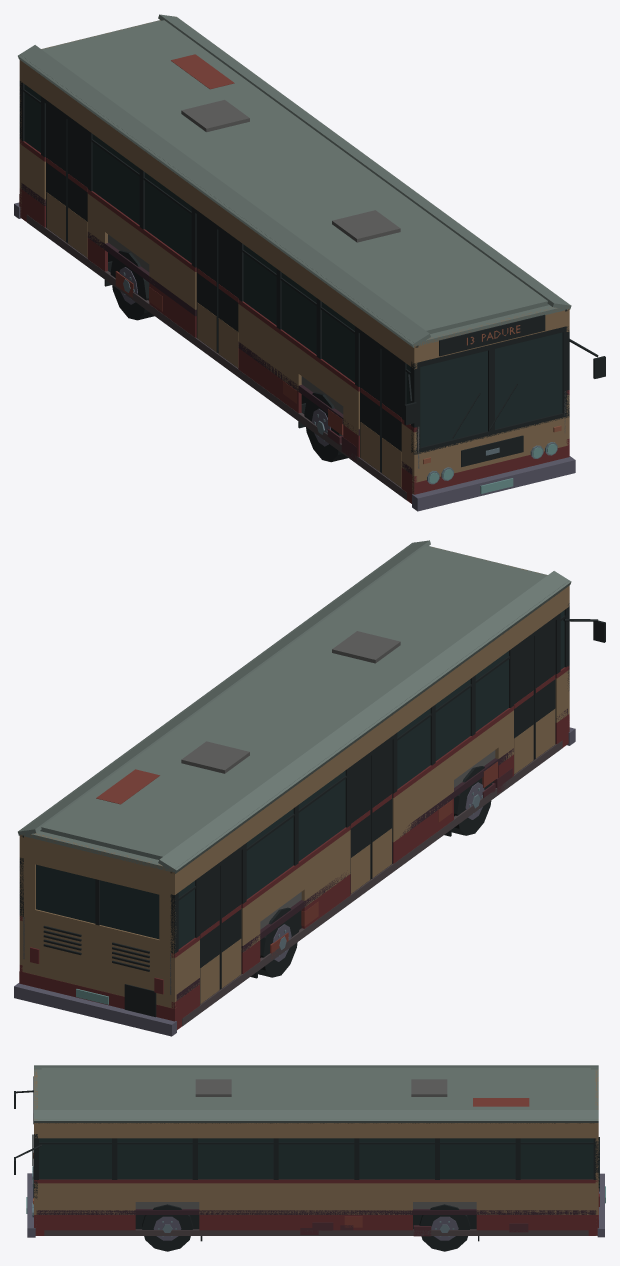
File: autobuz.glb
3 views of the same model, one above another, from view 1: azimuth 30°, elevation 25°; view 2: azimuth 150°, elevation 25°; view 3: azimuth 270°, elevation 25° (orthographic). The views are drawn at different scales.
Parts seen in each view (by area): view 1: Autobuz, Geamuri, Usa2B, Usa1B, Usa3B, Usa1A, Usa2A, Usa3A, RoataSS, RoataFS; view 2: Autobuz, Geamuri, Usa3A, Usa1A, Usa2A, Usa3B, Usa1B, Usa2B, RoataSS, RoataFS; view 3: Autobuz, Geamuri, RoataFD, RoataSD.
Boxes of the visible parts, bbox=[...] form: Autobuz: bbox=[14, 14, 605, 511]; Geamuri: bbox=[24, 84, 562, 447]; Usa2B: bbox=[196, 214, 218, 352]; Usa1B: bbox=[360, 334, 381, 472]; Usa3B: bbox=[46, 104, 67, 242]; Usa1A: bbox=[381, 349, 401, 487]; Usa2A: bbox=[218, 230, 238, 367]; Usa3A: bbox=[67, 119, 87, 257]; RoataSS: bbox=[110, 250, 154, 320]; RoataFS: bbox=[304, 392, 347, 462]; Autobuz: bbox=[14, 540, 605, 1036]; Geamuri: bbox=[36, 610, 564, 948]; Usa3A: bbox=[220, 850, 241, 989]; Usa1A: bbox=[534, 621, 555, 759]; Usa2A: bbox=[371, 740, 392, 878]; Usa3B: bbox=[200, 866, 220, 1004]; Usa1B: bbox=[514, 636, 534, 774]; Usa2B: bbox=[350, 756, 370, 893]; RoataSS: bbox=[258, 907, 299, 977]; RoataFS: bbox=[451, 766, 492, 835]; Autobuz: bbox=[14, 1065, 605, 1241]; Geamuri: bbox=[39, 1138, 593, 1179]; RoataFD: bbox=[142, 1204, 193, 1251]; RoataSD: bbox=[419, 1204, 470, 1251].
Bounding box in the file's own units: 3.22 × 2.97 × 11.53.
